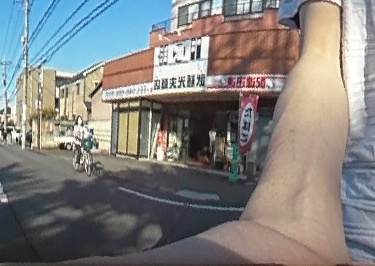person: (72, 113, 87, 159)
